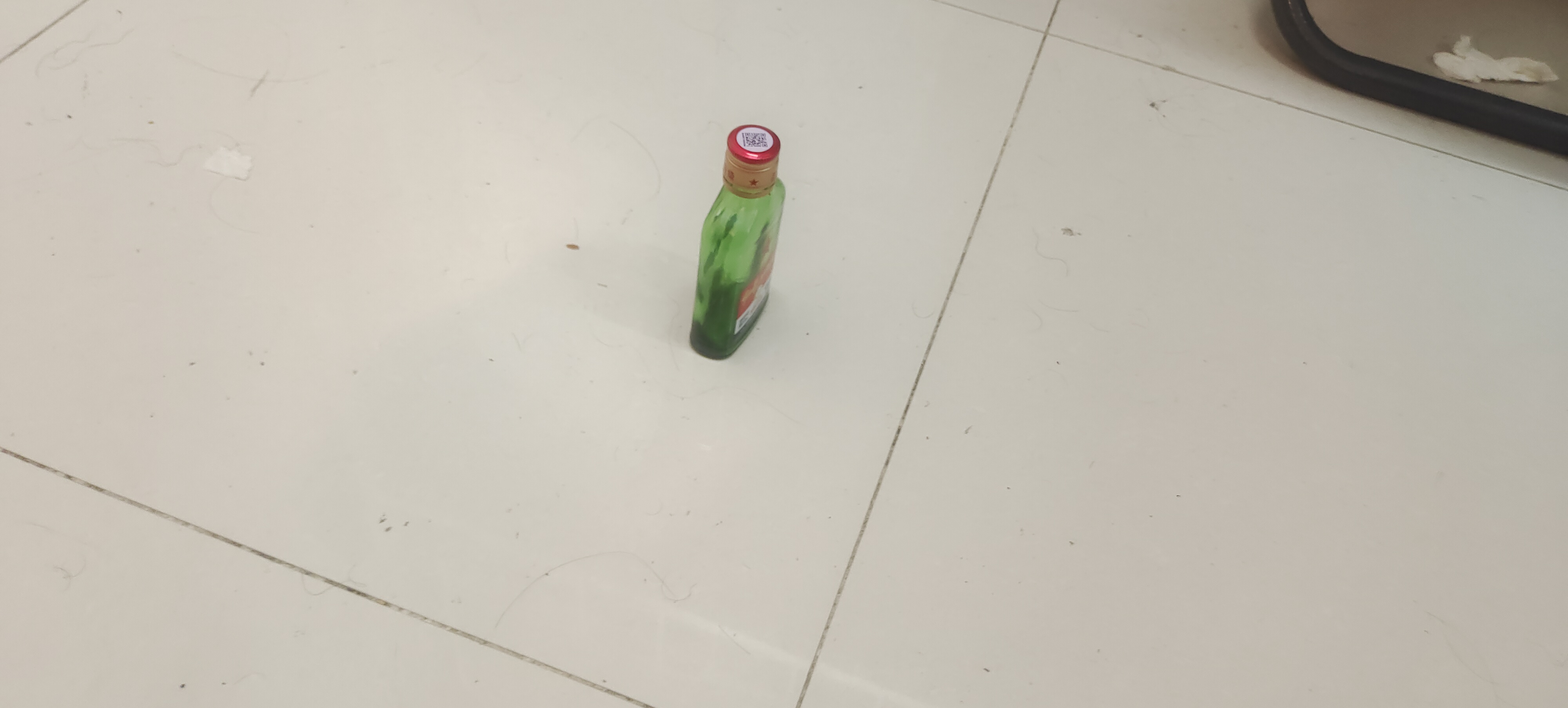redbull: (524, 65, 906, 447)
